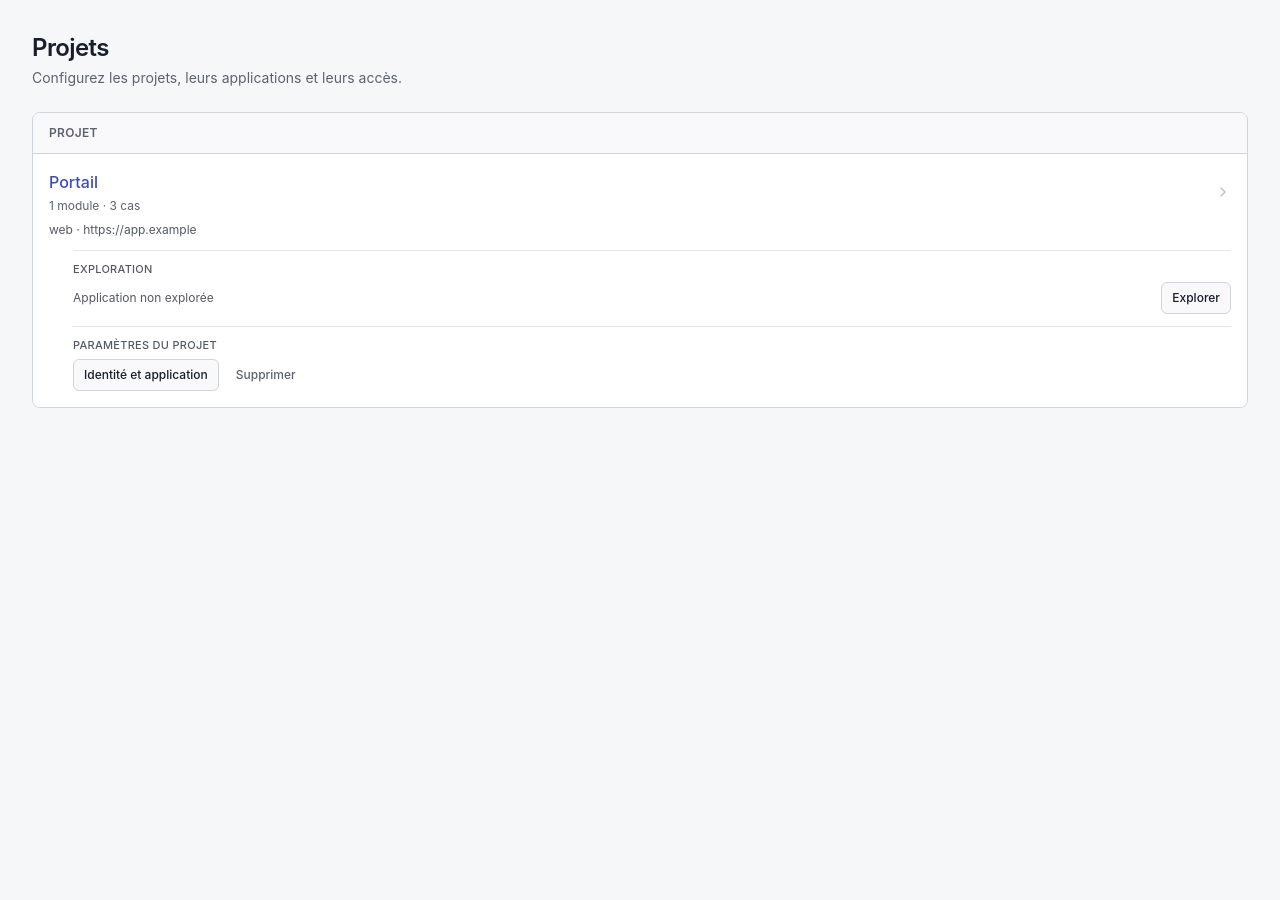
Test: ProjectsList — comptes de test du projet › liste le compte principal puis les comptes secondaires, sans jamais afficher un secret
Click the button "Identité et application": (146, 375) x1=73 y1=359 x2=219 y2=391
(page scrolled)
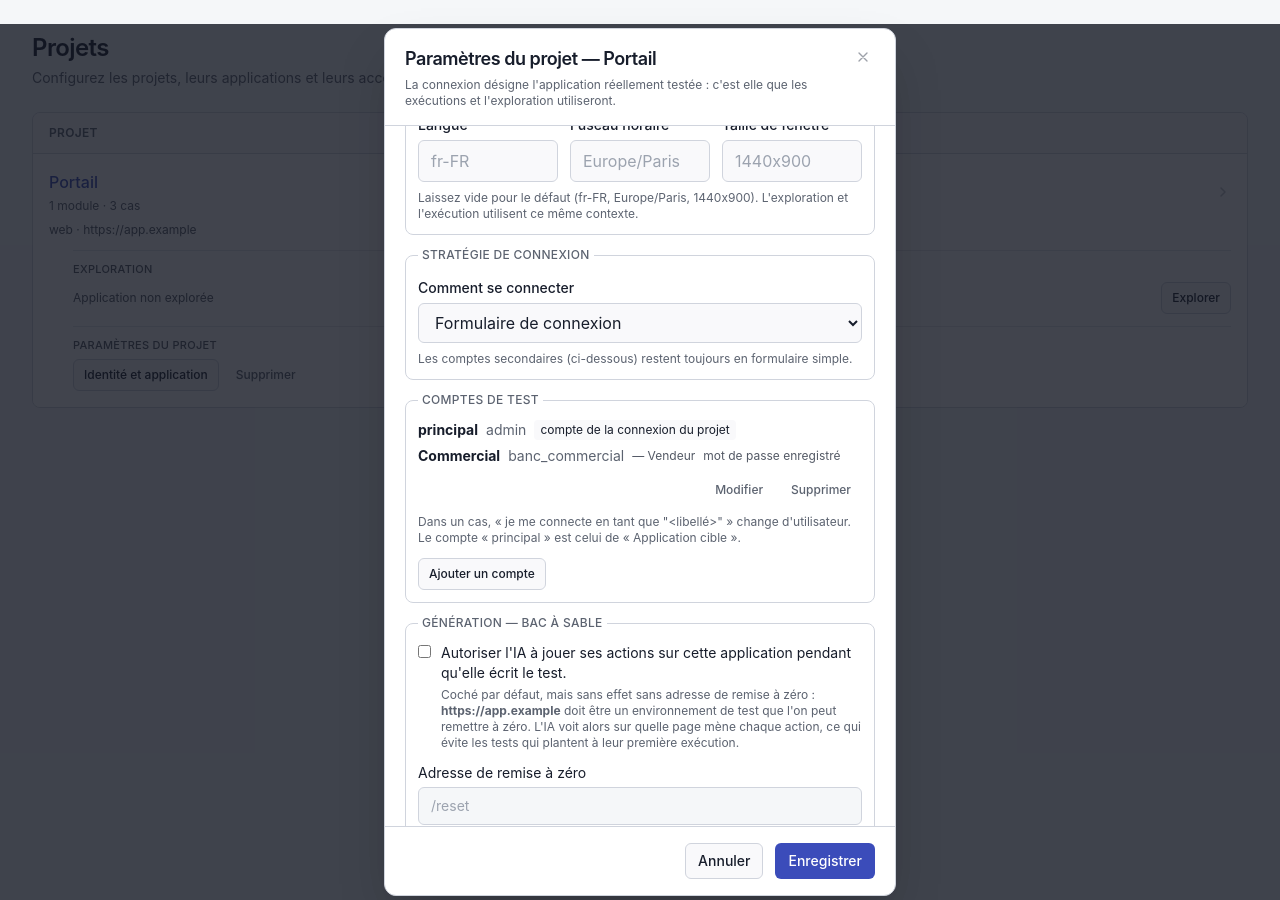
Now the number of list items with test id "compte-ligne" is 2, box x1=418 y1=420 x2=736 y2=440; x1=418 y1=446 x2=862 y2=506
Now the list item with test id "compte-ligne" shows "principal", box x1=418 y1=421 x2=478 y2=438
Now the list item with test id "compte-ligne" shows "compte de la connexion du projet", box x1=540 y1=422 x2=730 y2=437
